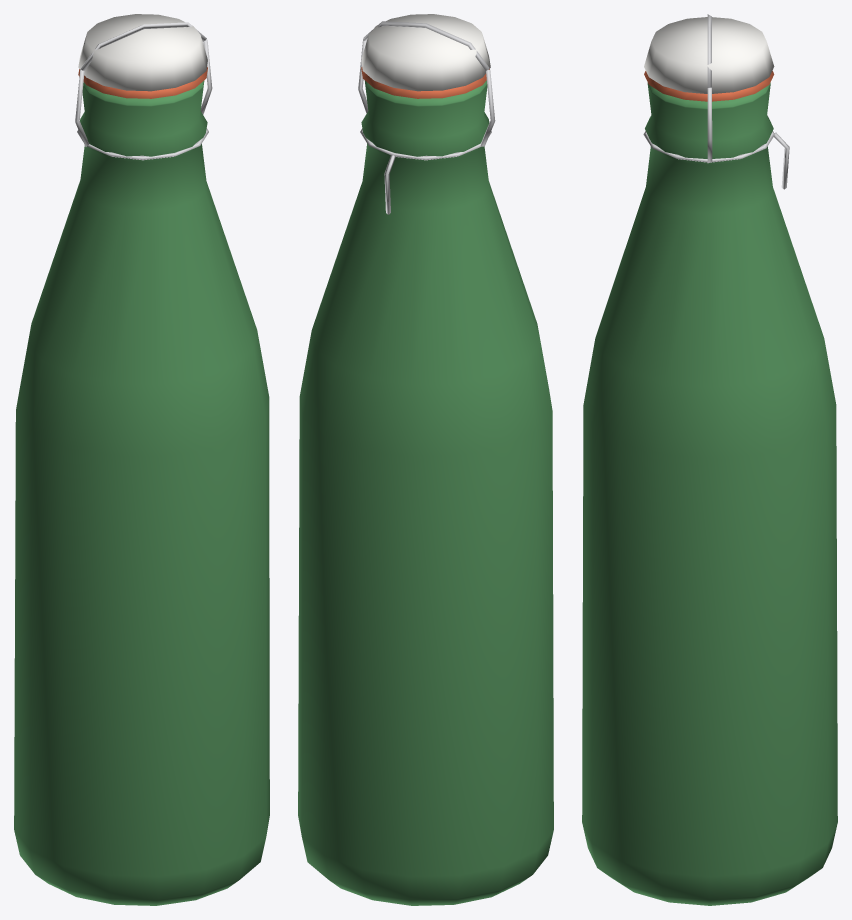
File: bottle_swingtop_lod2.glb
The picture shows the model from 3 angles, left to right: view 1: azimuth 30°, elevation 25°; view 2: azimuth 150°, elevation 25°; view 3: azimuth 270°, elevation 25°; orthographic projection.
Parts seen in each view (by area): view 1: Glass, Cap; view 2: Glass, Cap; view 3: Glass, Cap.
Boxes of the visible parts, bbox=[...] form: Glass: bbox=[14, 81, 269, 905]; Cap: bbox=[75, 14, 212, 160]; Glass: bbox=[298, 80, 553, 905]; Cap: bbox=[358, 14, 495, 214]; Glass: bbox=[582, 82, 837, 905]; Cap: bbox=[643, 14, 789, 189].
Bounding box in the file's own units: 0.0692 × 0.2473 × 0.0687.
